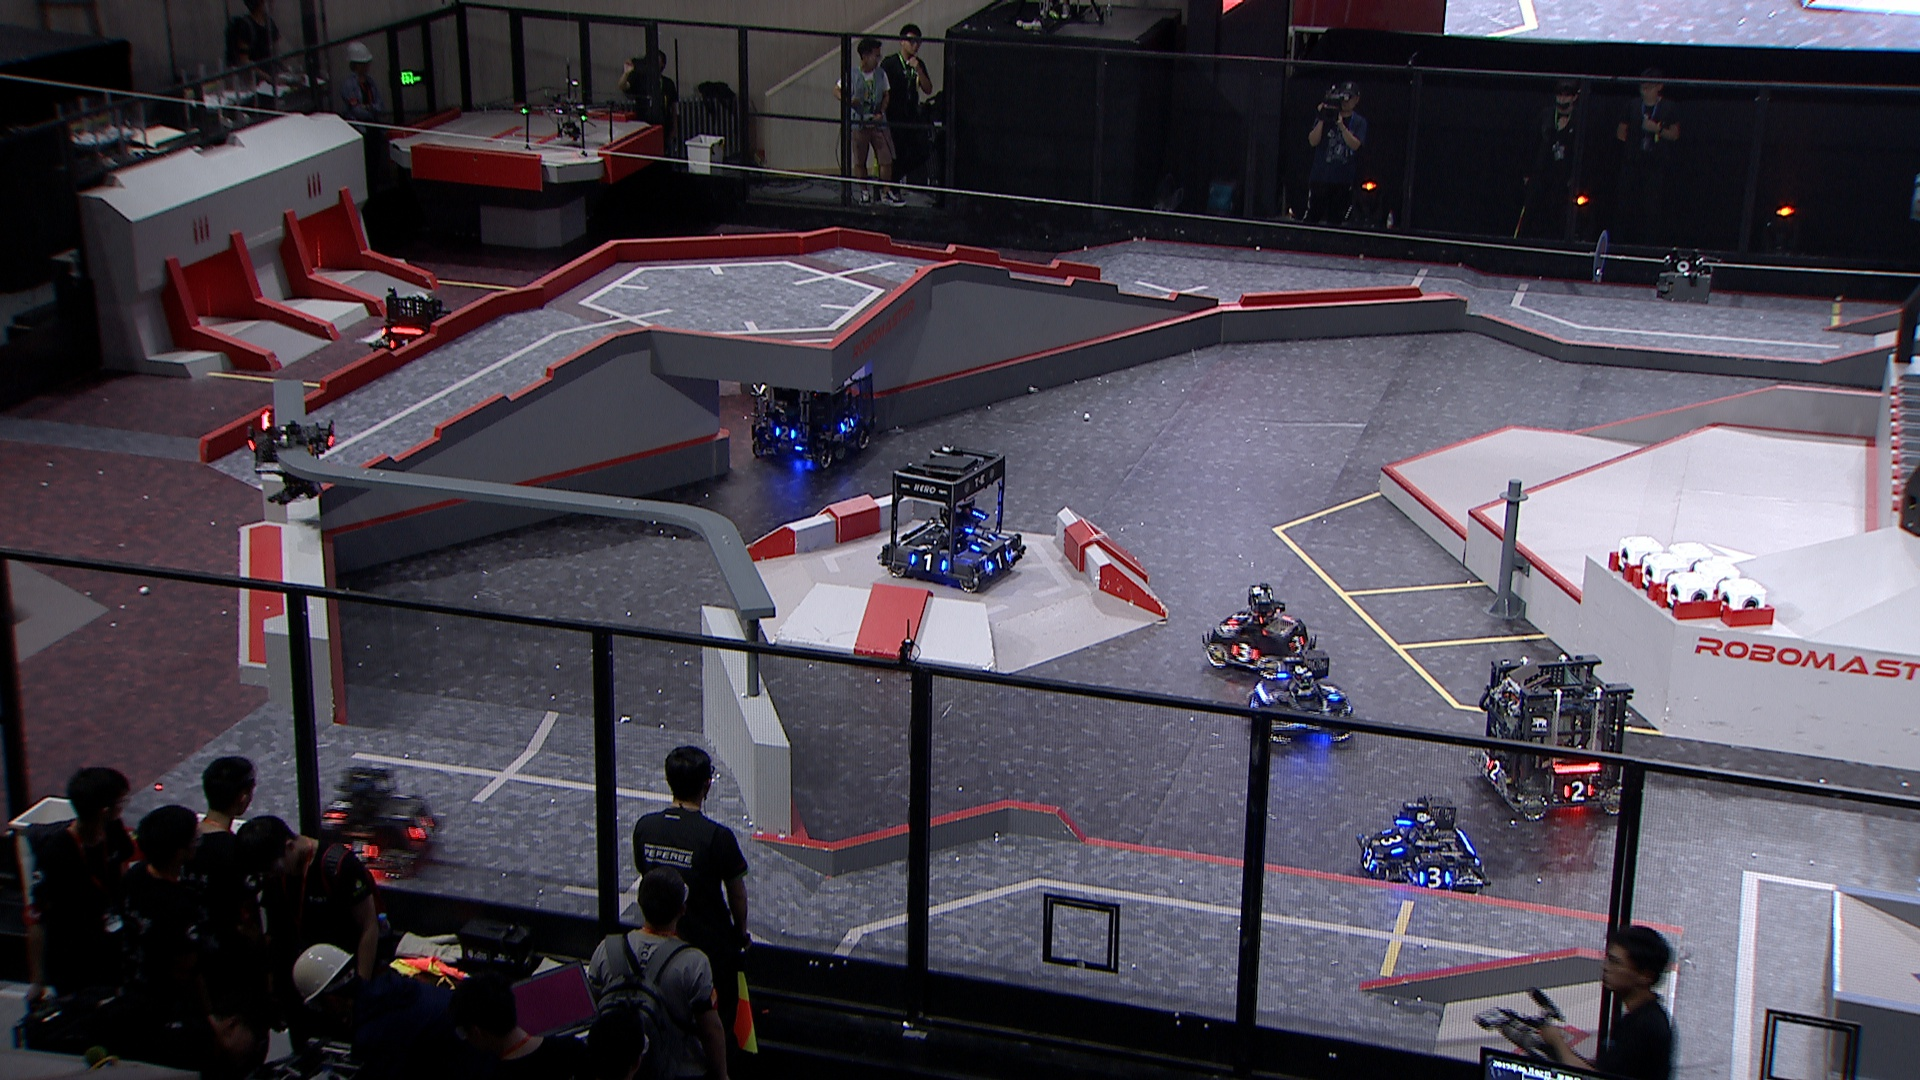armor: (909, 550, 945, 575), (323, 793, 352, 822), (1560, 782, 1596, 804), (342, 839, 373, 862), (1419, 865, 1449, 887), (411, 811, 438, 835), (967, 531, 994, 553), (1229, 642, 1258, 662), (1377, 827, 1400, 851), (988, 550, 1013, 570), (1320, 680, 1338, 703), (774, 425, 796, 442), (1485, 756, 1501, 779), (1286, 633, 1305, 651), (1229, 608, 1247, 626), (1360, 845, 1373, 870), (839, 414, 856, 433), (390, 335, 411, 349)
car: (1474, 651, 1633, 818), (877, 446, 1026, 591), (745, 343, 880, 469), (309, 765, 444, 880), (1354, 794, 1490, 899), (1240, 651, 1365, 752), (1197, 579, 1320, 676), (367, 290, 460, 371)
watcher: (247, 406, 338, 508)
